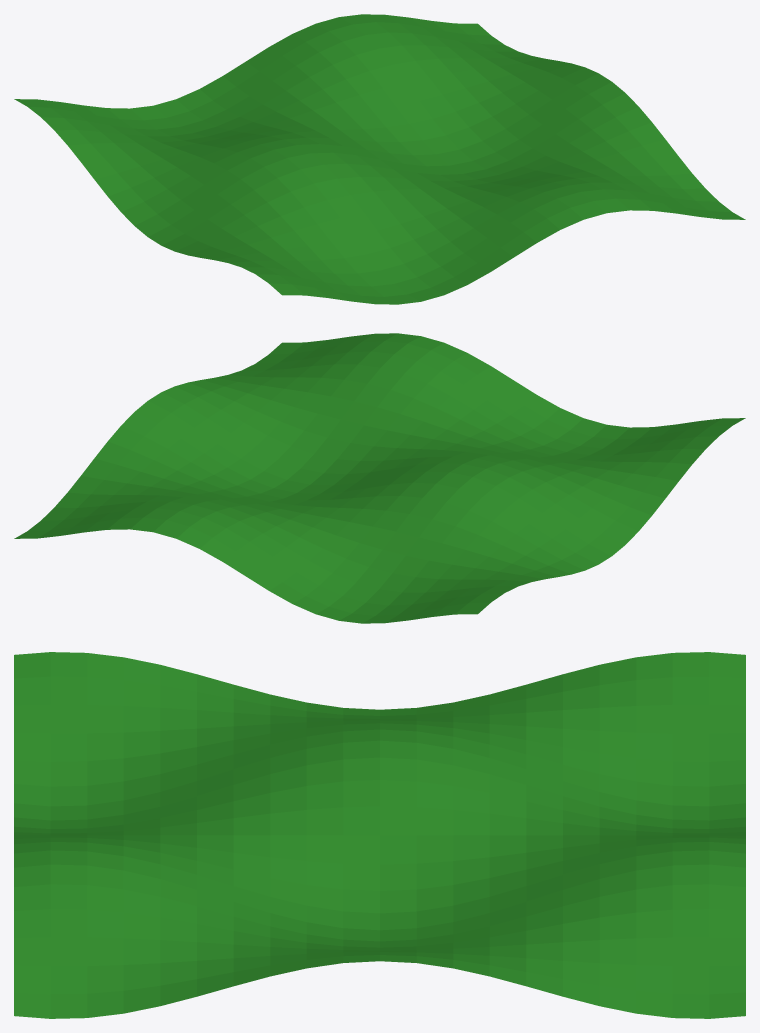
The model's file is Terrain_Demo_Terrain.obj.
3 renders of one model, top to bottom at view 1: azimuth 30°, elevation 25°; view 2: azimuth 150°, elevation 25°; view 3: azimuth 270°, elevation 25°, orthographic. The views are drawn at different scales.
Parts seen in each view (by area): view 1: Demo_Terrain; view 2: Demo_Terrain; view 3: Demo_Terrain.
Boxes of the visible parts, x1,y1,x2,y2 form: Demo_Terrain: (14,14,745,304); Demo_Terrain: (14,333,745,623); Demo_Terrain: (14,652,745,1018).
Bounding box in the file's own units: 24 × 2.39 × 24.
